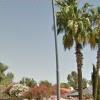Palm tree: (59, 1, 100, 99)
